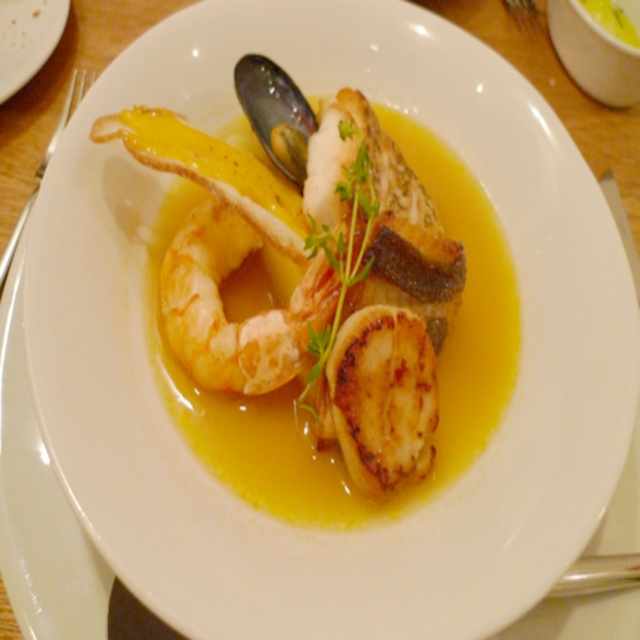Shrimp: (161, 191, 363, 399)
